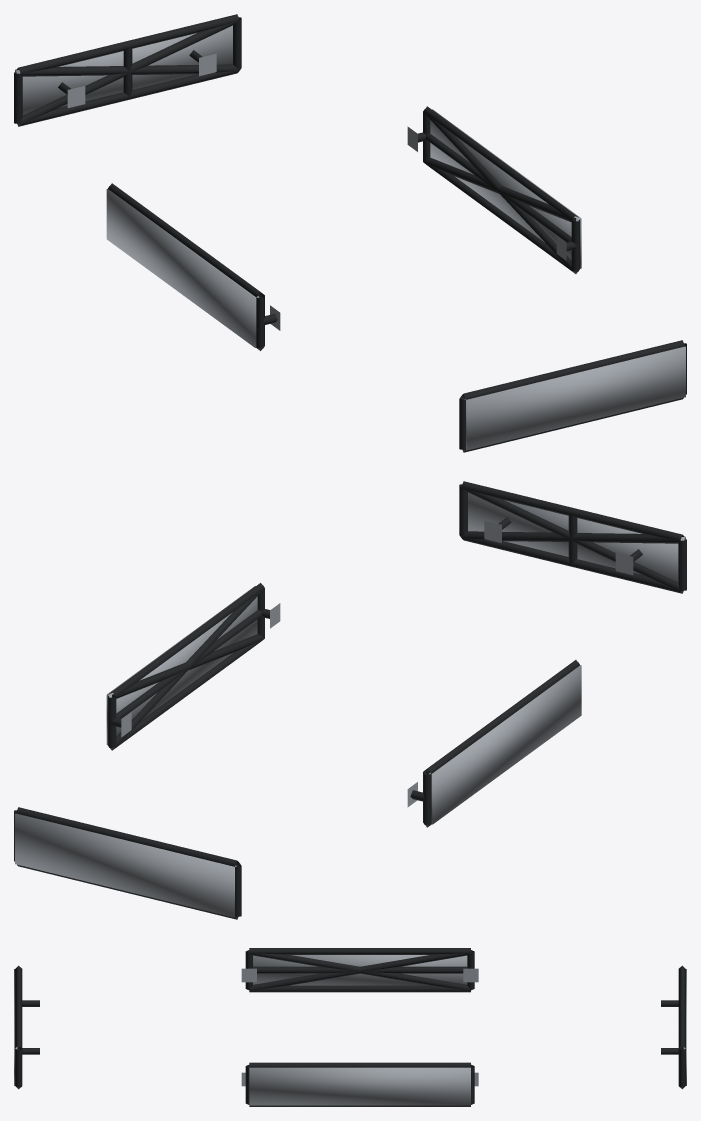
The model's file is norrvik_bastion_protecao.glb.
3 views of the same model, one above another, from view 1: azimuth 30°, elevation 25°; view 2: azimuth 150°, elevation 25°; view 3: azimuth 270°, elevation 25° (orthographic). The views are drawn at different scales.
Parts seen in each view (by area): view 1: Protection_front_Level3_Details, Protection_left_Level3_Details, Protection_rear_Level1_Details, Protection_rear_Level3_Details, Protection_right_Level1_Details, Protection_rear_Level2_Details, Protection_right_Level2_Details, Protection_right_Level3_Details, Protection_front_Level1_Details, Protection_left_Level1_Details; view 2: Protection_rear_Level3_Details, Protection_left_Level3_Details, Protection_front_Level1_Details, Protection_front_Level3_Details, Protection_right_Level1_Details, Protection_front_Level2_Details, Protection_right_Level2_Details, Protection_right_Level3_Details, Protection_rear_Level1_Details, Protection_left_Level1_Details; view 3: Protection_right_Level3_Details, Protection_left_Level2_Details, Protection_left_Level1_Details, Protection_left_Level3_Details, Protection_right_Level1_Details, Protection_rear_Level1_Details, Protection_front_Level1_Details.
Part boxes in pixels (x1,y1,x2,y2): Protection_front_Level3_Details: (464,346,685,450); Protection_left_Level3_Details: (106,188,259,347); Protection_rear_Level1_Details: (14,14,241,126); Protection_rear_Level3_Details: (15,25,232,115); Protection_right_Level1_Details: (407,106,580,273); Protection_rear_Level2_Details: (16,21,239,125); Protection_right_Level2_Details: (423,113,578,273); Protection_right_Level3_Details: (430,109,581,268); Protection_front_Level1_Details: (459,340,686,452); Protection_left_Level1_Details: (108,183,280,350); Protection_rear_Level3_Details: (15,813,236,917); Protection_left_Level3_Details: (428,665,581,824); Protection_front_Level1_Details: (459,481,686,593); Protection_front_Level3_Details: (468,492,685,582); Protection_right_Level1_Details: (107,583,280,750); Protection_front_Level2_Details: (461,488,684,592); Protection_right_Level2_Details: (108,588,264,750); Protection_right_Level3_Details: (106,586,257,744); Protection_rear_Level1_Details: (14,807,241,919); Protection_left_Level1_Details: (407,660,579,827); Protection_right_Level3_Details: (249,1067,470,1105); Protection_left_Level2_Details: (249,951,471,990); Protection_left_Level1_Details: (241,948,478,992); Protection_left_Level3_Details: (253,955,467,985); Protection_right_Level1_Details: (241,1062,478,1106); Protection_rear_Level1_Details: (661,965,685,1089); Protection_front_Level1_Details: (15,965,39,1089).
Size of the model in its own units: 2.04 by 0.354 by 4.89.
1 material, 1 textured.
